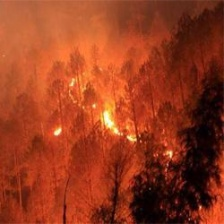fire: (57, 77, 175, 167)
